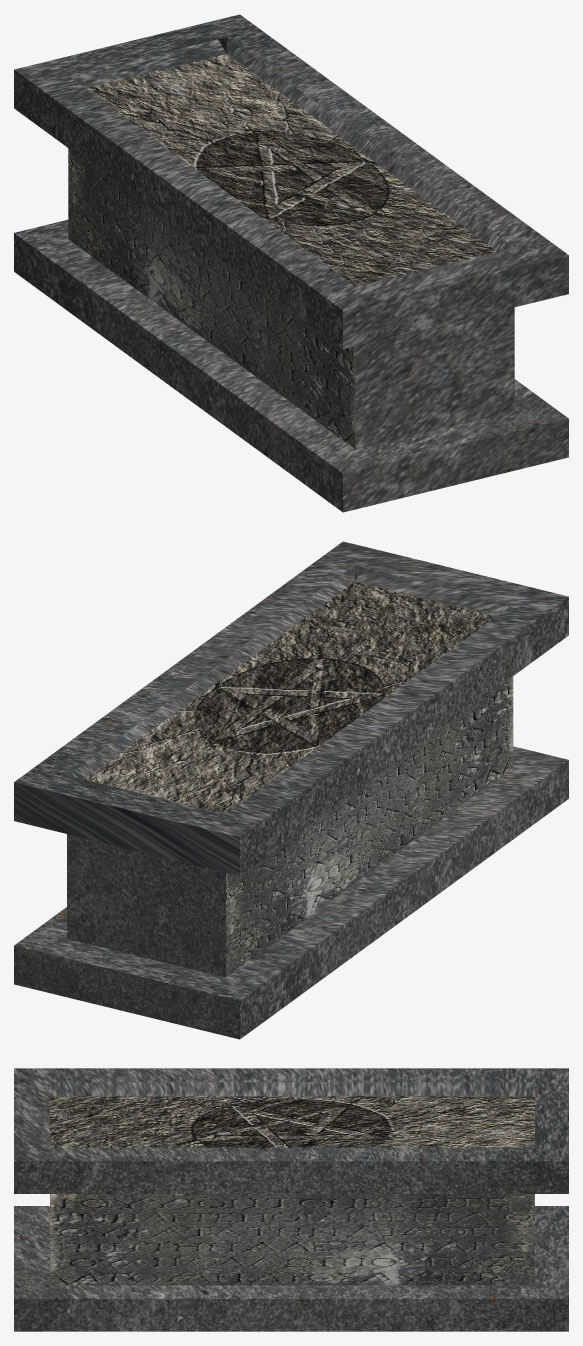
The model's file is altar.glb.
3 renders of one model, top to bottom at view 1: azimuth 30°, elevation 25°; view 2: azimuth 150°, elevation 25°; view 3: azimuth 270°, elevation 25°, orthographic. The views are drawn at different scales.
Parts seen in each view (by area): view 1: Cube; view 2: Cube; view 3: Cube.
Part boxes in pixels (x1=…): Cube: x1=14, y1=14, x2=568, y2=512; Cube: x1=14, y1=541, x2=568, y2=1039; Cube: x1=14, y1=1068, x2=568, y2=1331.
Bounding box in the file's own units: 8.87 × 7.59 × 22.38.
3 materials, 3 textured.
